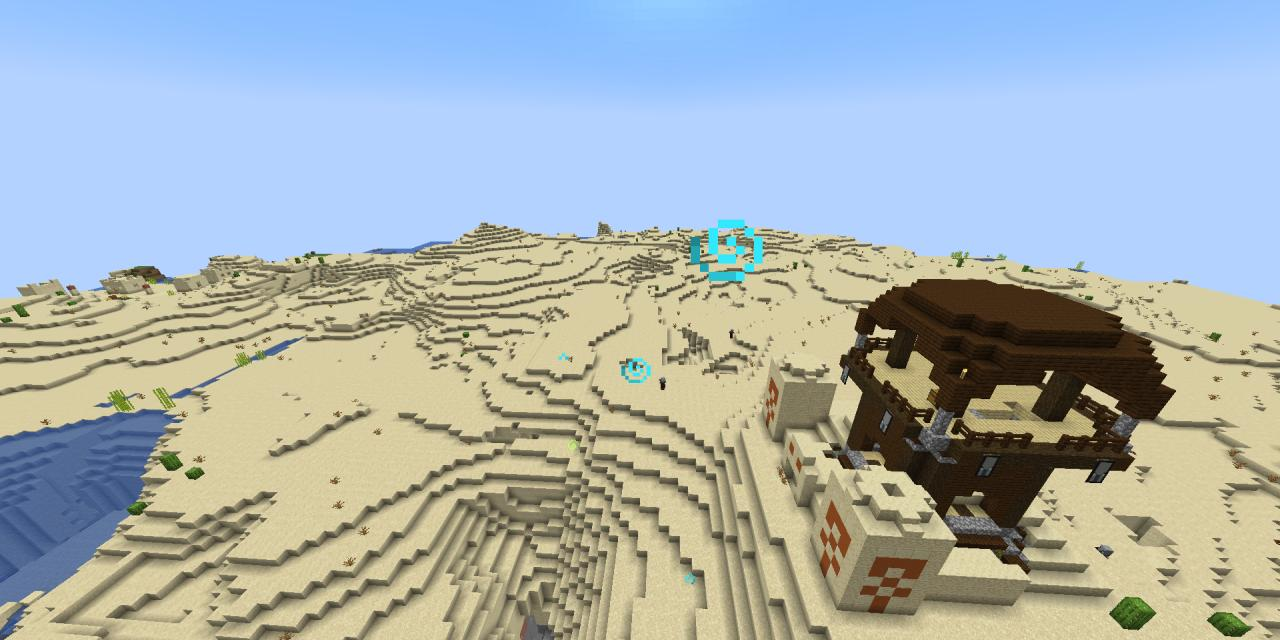desert temple: (742, 332, 1114, 618)
pillager outpost: (837, 254, 1183, 577)
